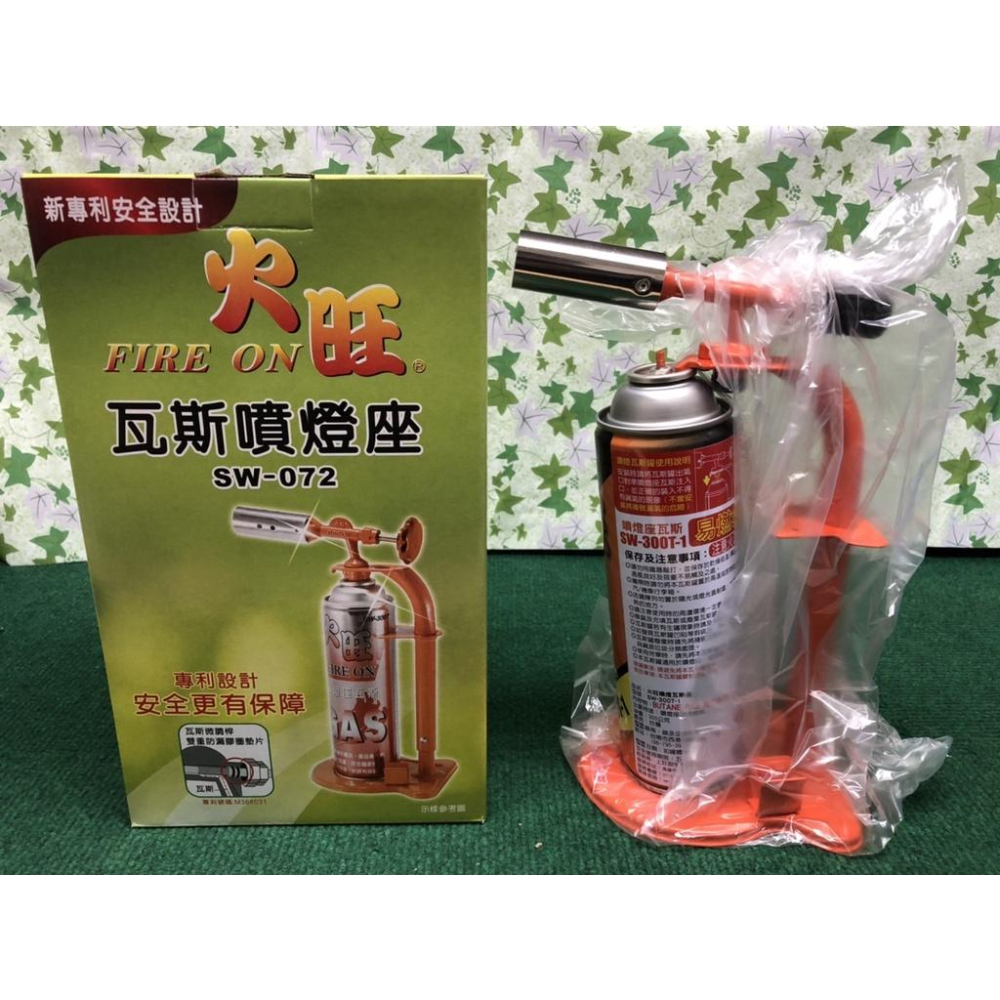gastorch: (511, 218, 902, 857), (224, 498, 471, 807)
